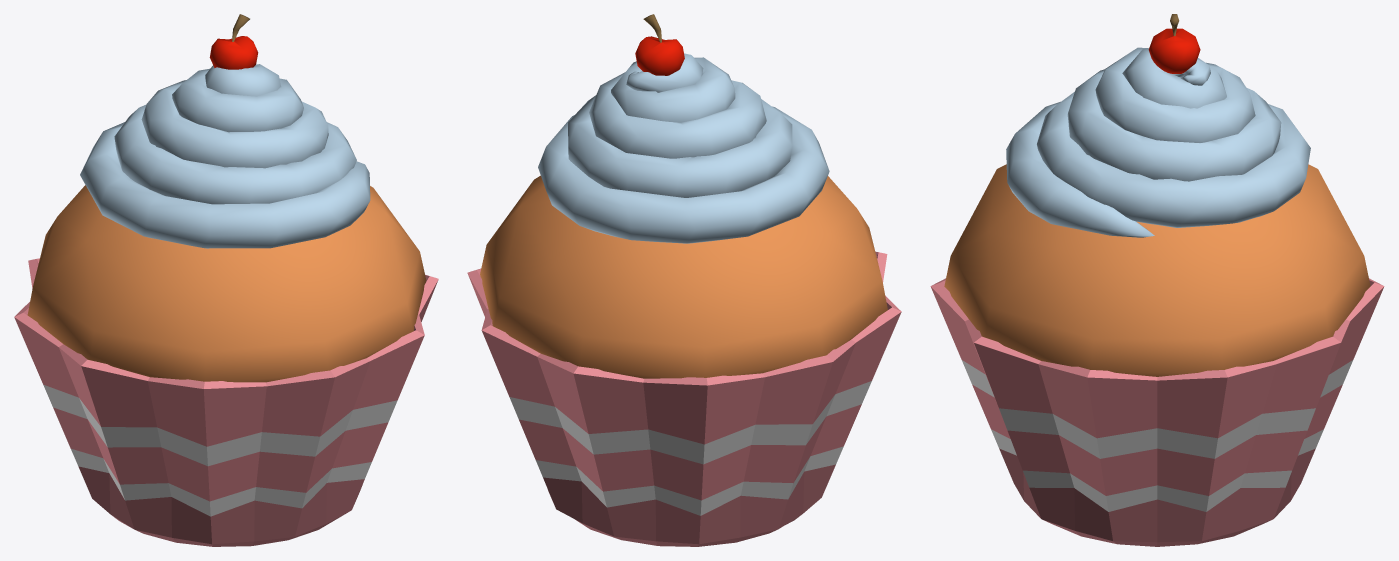
The model's file is cupcake.fbx.
The picture shows the model from 3 angles, left to right: view 1: azimuth 30°, elevation 25°; view 2: azimuth 150°, elevation 25°; view 3: azimuth 270°, elevation 25°; orthographic projection. The views are drawn at different scales.
Parts seen in each view (by area): view 1: Cylinder, Icosphere, Spiral, Icosphere.001; view 2: Cylinder, Icosphere, Spiral, Icosphere.001; view 3: Cylinder, Icosphere, Spiral, Icosphere.001.
Part boxes in pixels (x1,y1,x2,y2): Cylinder: (14,258,438,546); Icosphere: (27,185,426,382); Spiral: (80,64,370,248); Icosphere.001: (209,14,258,69); Cylinder: (467,251,901,546); Icosphere: (480,175,887,378); Spiral: (538,53,829,243); Icosphere.001: (635,14,684,75); Cylinder: (930,278,1384,546); Icosphere: (944,164,1370,376); Spiral: (1006,47,1310,237); Icosphere.001: (1148,14,1200,73).
Bounding box in the file's own units: 190 × 238 × 200.
